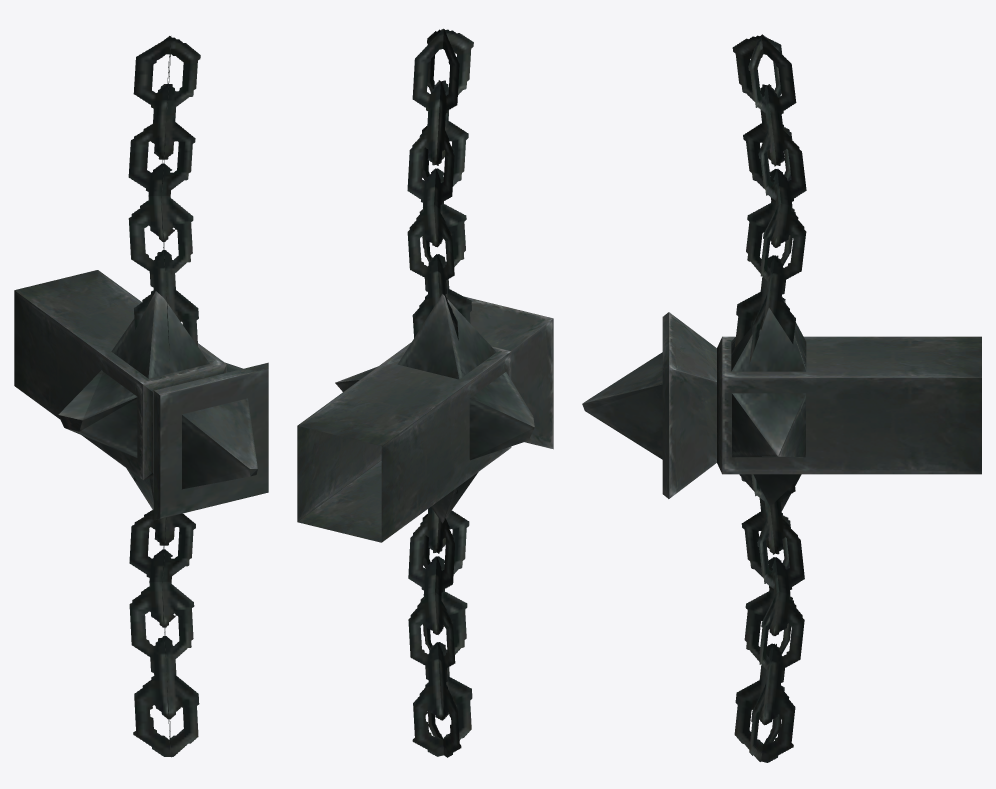
Rendered from juqing_fuben_252_langan_01b.obj.
3 views of the same model, side by side, from view 1: azimuth 30°, elevation 25°; view 2: azimuth 150°, elevation 25°; view 3: azimuth 270°, elevation 25° (orthographic).
Parts seen in each view (by area): view 1: juqing_fuben_252_langan_01b; view 2: juqing_fuben_252_langan_01b; view 3: juqing_fuben_252_langan_01b.
Part boxes in pixels (<box>): juqing_fuben_252_langan_01b: <box>14,36,268,757</box>; juqing_fuben_252_langan_01b: <box>297,28,553,757</box>; juqing_fuben_252_langan_01b: <box>582,34,981,762</box>.
Size of the model in its own units: 40.31 by 138 by 68.72.
Materials: 1 (1 with a texture image).
